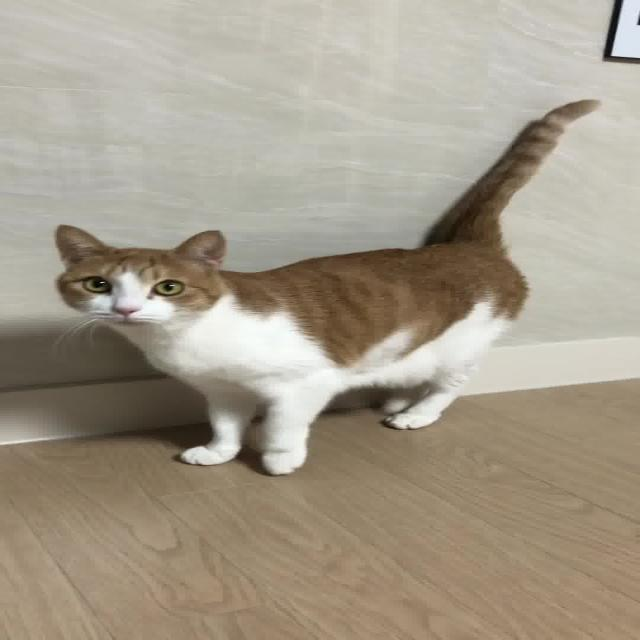cat: (0, 76, 629, 485)
